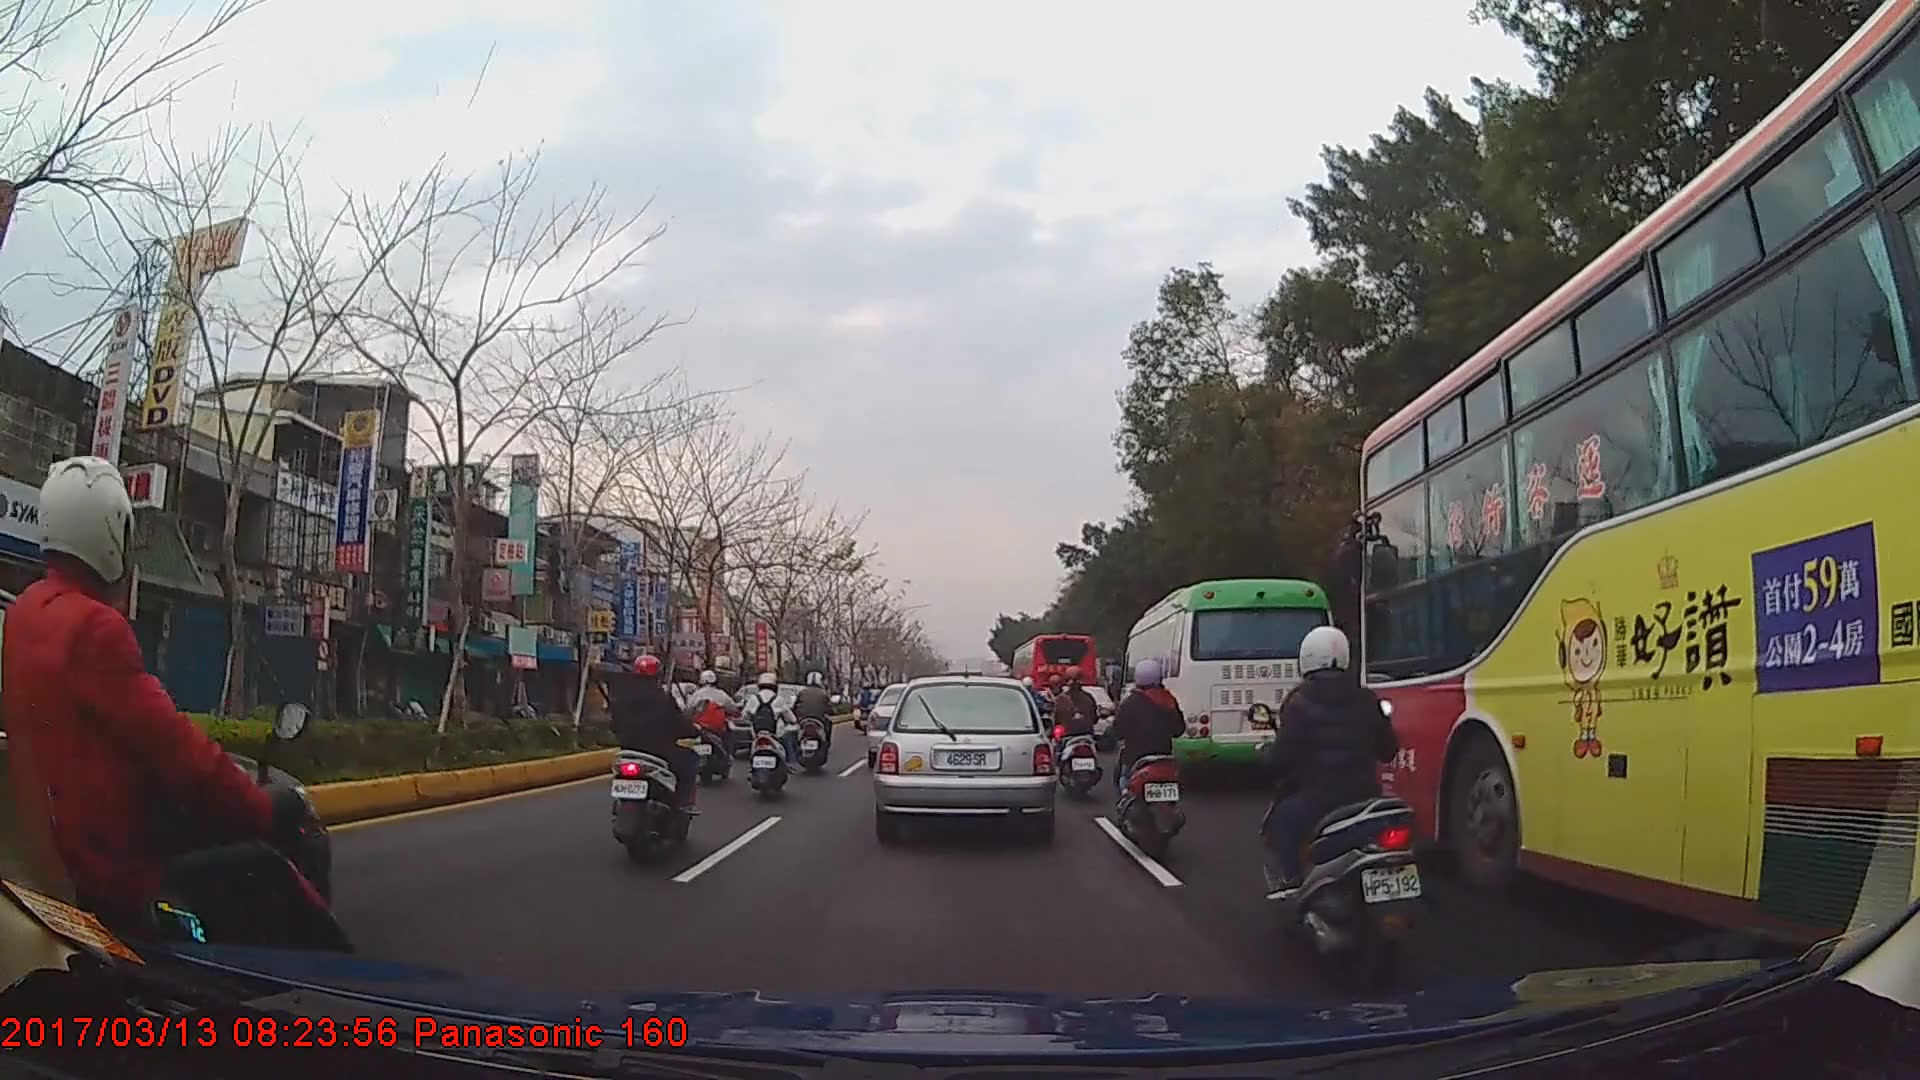rider: (1, 452, 364, 1058), (1257, 623, 1423, 976), (609, 654, 700, 863), (1110, 657, 1197, 866), (745, 673, 797, 800), (686, 669, 740, 787), (1051, 664, 1100, 791), (796, 672, 838, 773), (858, 682, 879, 721)
vehicle: (1357, 0, 1920, 1002), (0, 590, 328, 965), (1119, 577, 1342, 786), (877, 674, 1053, 838), (1012, 629, 1099, 732)
